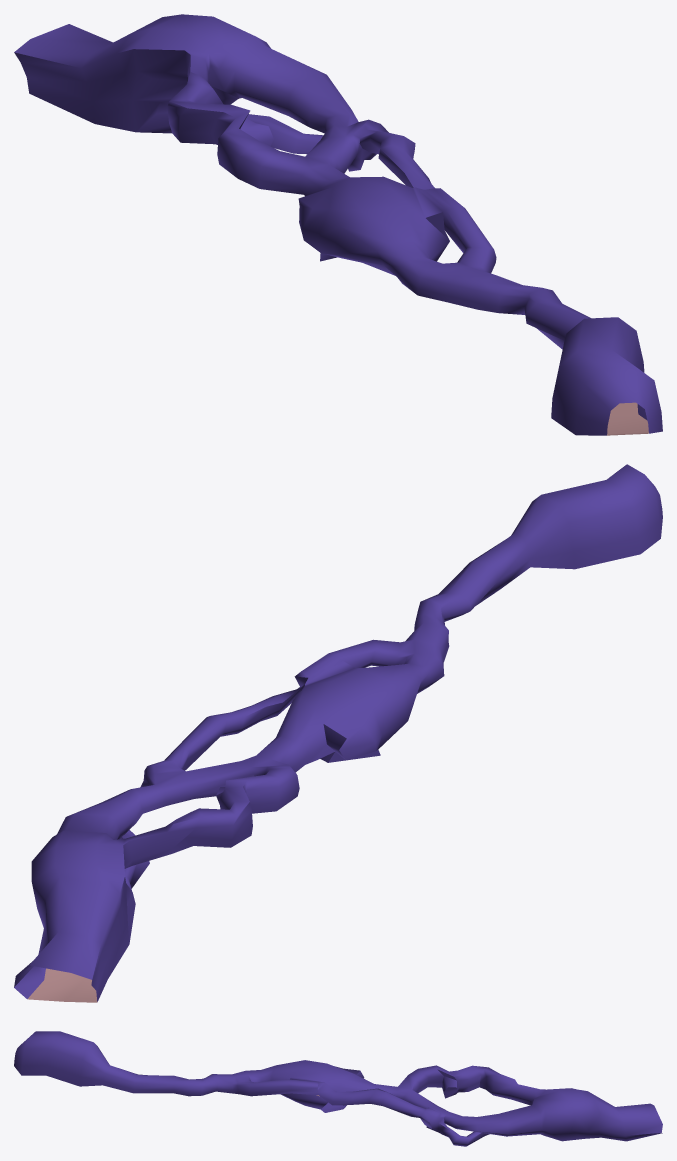
The model's file is Tunnel_3.fbx.
3 views of the same model, one above another, from view 1: azimuth 30°, elevation 25°; view 2: azimuth 150°, elevation 25°; view 3: azimuth 270°, elevation 25° (orthographic). The views are drawn at different scales.
Visible parts, largest first — view 1: Tunnel_3; view 2: Tunnel_3; view 3: Tunnel_3.
Boxes of the visible parts, box(x1,y1,x2,y2) form: Tunnel_3: box(14, 14, 662, 435); Tunnel_3: box(14, 464, 662, 1002); Tunnel_3: box(14, 1031, 662, 1146).
Size of the model in its own units: 6655 by 5114 by 33642.
